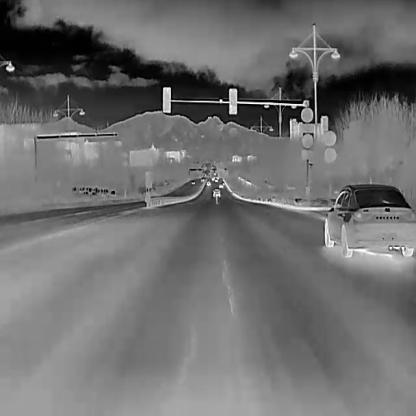car: (322, 181, 416, 258), (212, 187, 219, 197), (217, 181, 224, 188), (204, 180, 211, 186), (212, 176, 218, 182), (199, 176, 205, 182), (190, 178, 195, 184)
